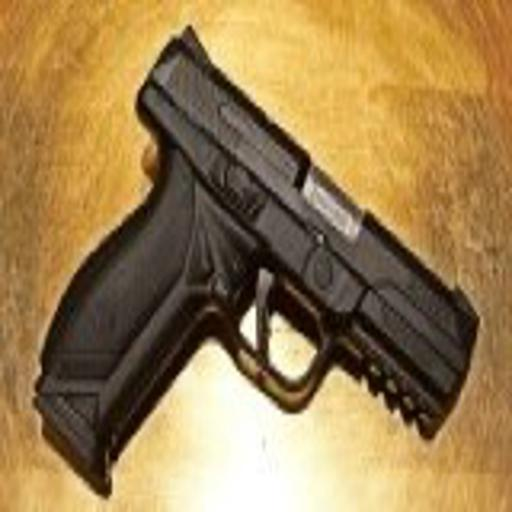Handgun: (31, 24, 482, 493)
